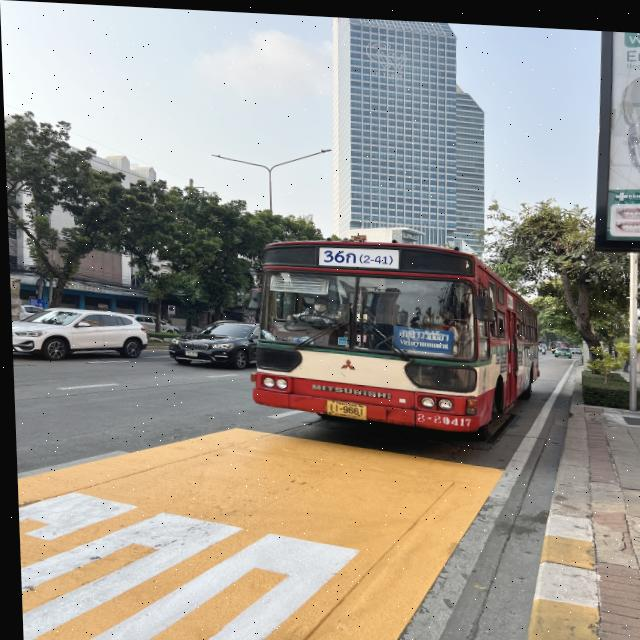BMTA-bus: (247, 236, 537, 432)
Bus Line Number: (317, 245, 398, 267)
Bus Side Number: (411, 407, 472, 423)
Destination Sign: (391, 322, 453, 354)
